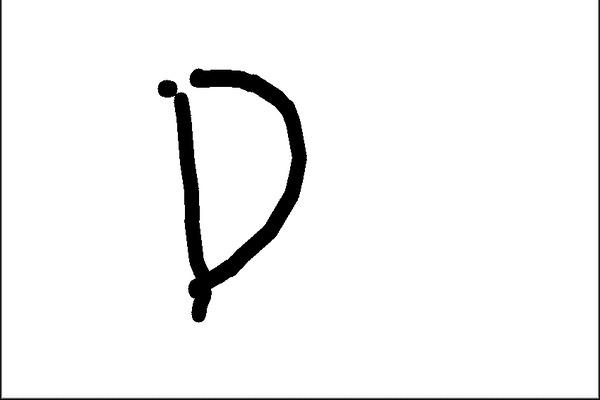D: (153, 62, 315, 327)
